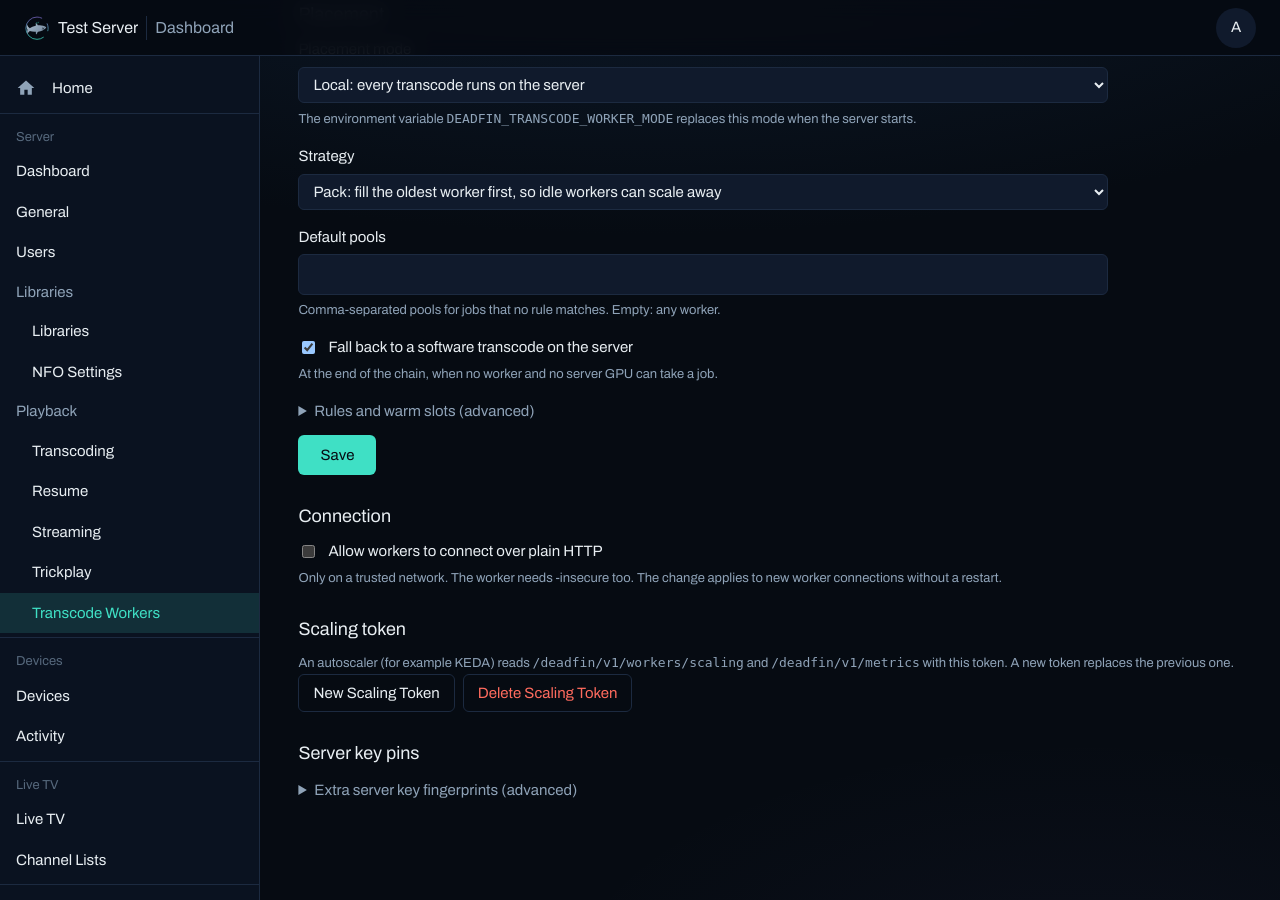
it: transcode workers page › toggles plain HTTP through the encoding configuration (deadfin#664)
(page scrolled)
Click the checkbox labelled "Allow workers to connect over plain HTTP".
click(309, 551)  # box [302, 545, 315, 558]
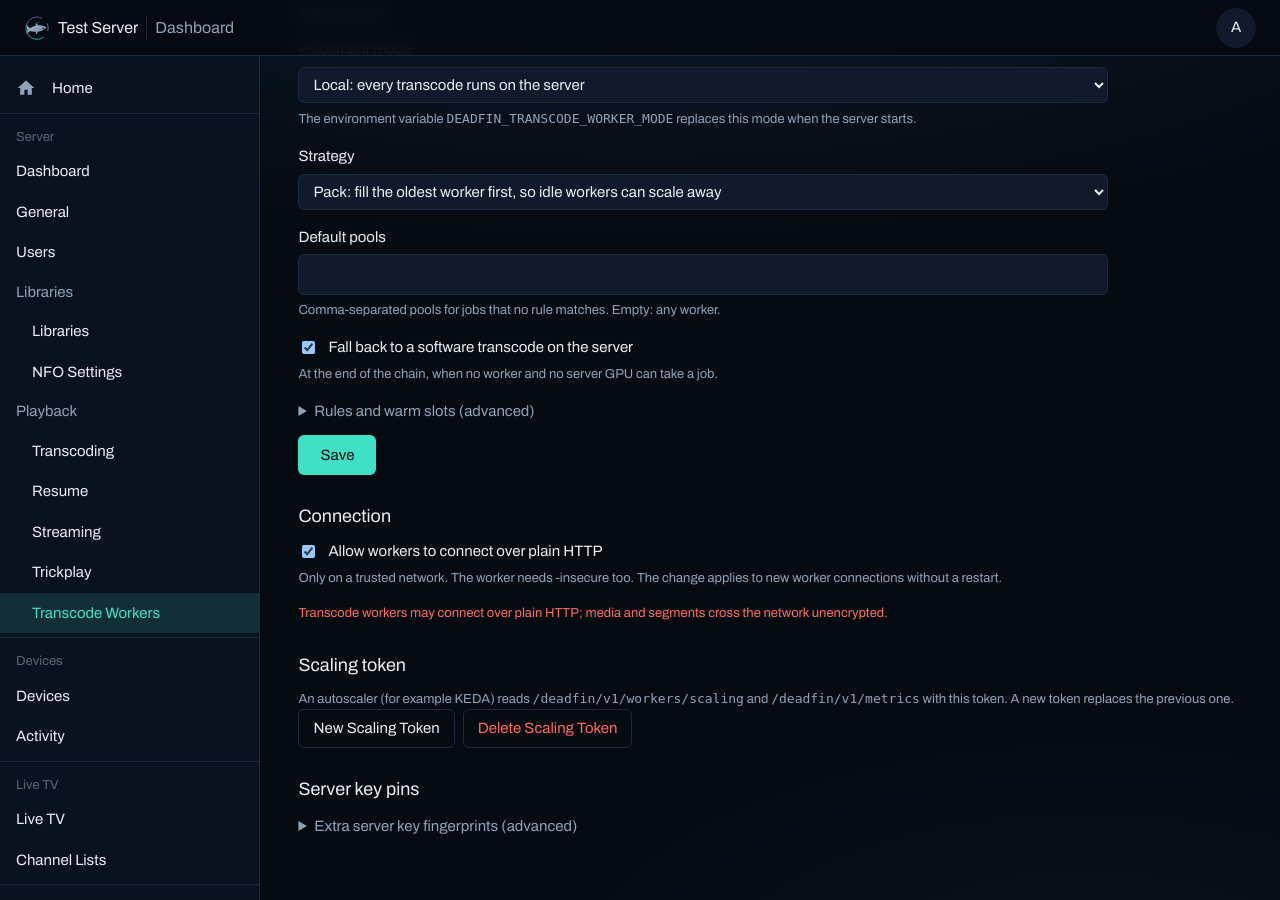
Now the checkbox labelled "Allow workers to connect over plain HTTP" is checked, box [302, 545, 315, 558]
Now the text "media and segments cross the network unencrypted" is shown, box [298, 606, 888, 620]
